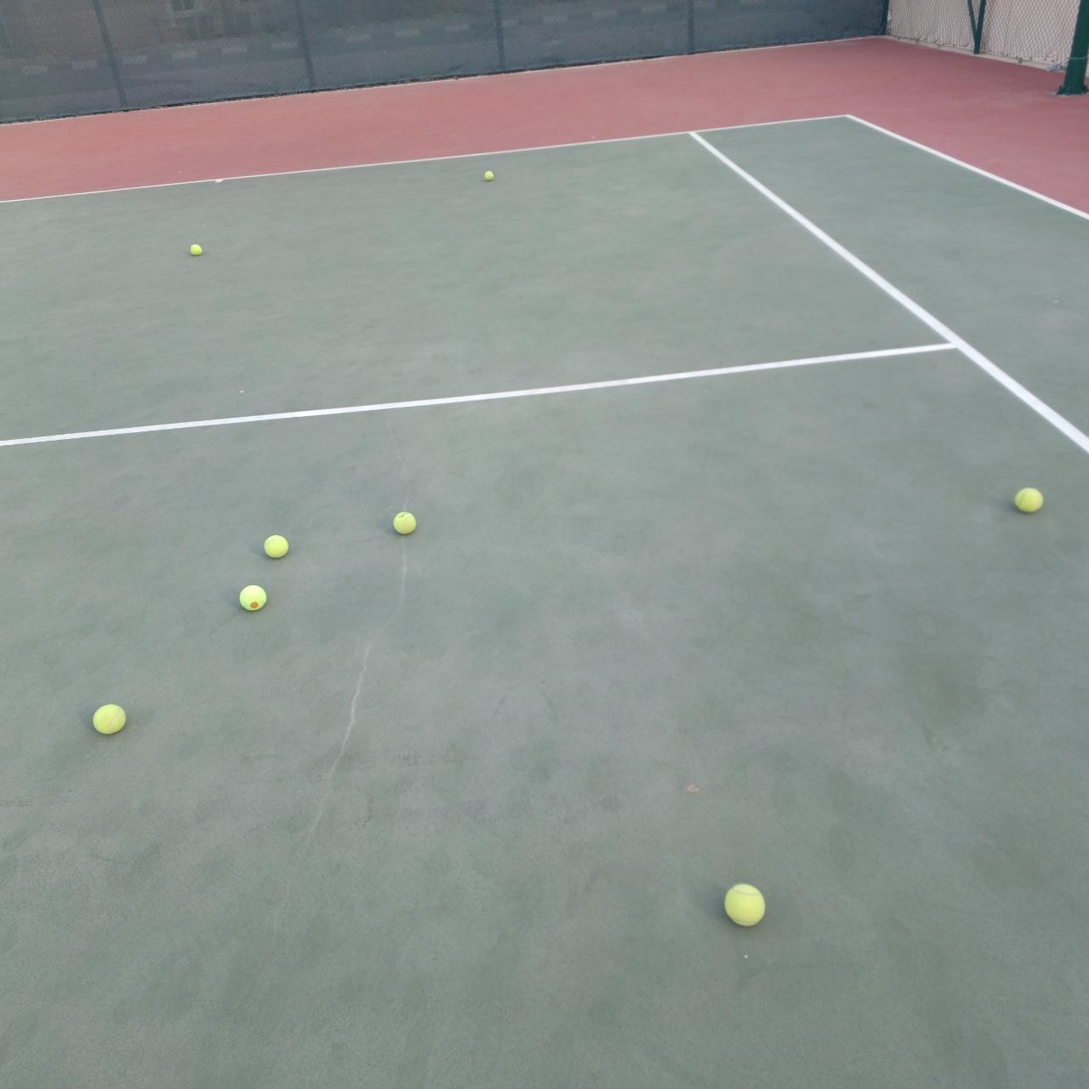tennis-ball: (722, 881, 767, 927), (91, 701, 127, 735), (237, 582, 267, 612), (1012, 485, 1043, 513), (392, 510, 417, 534), (263, 535, 289, 558), (190, 243, 203, 256), (485, 171, 494, 180)
